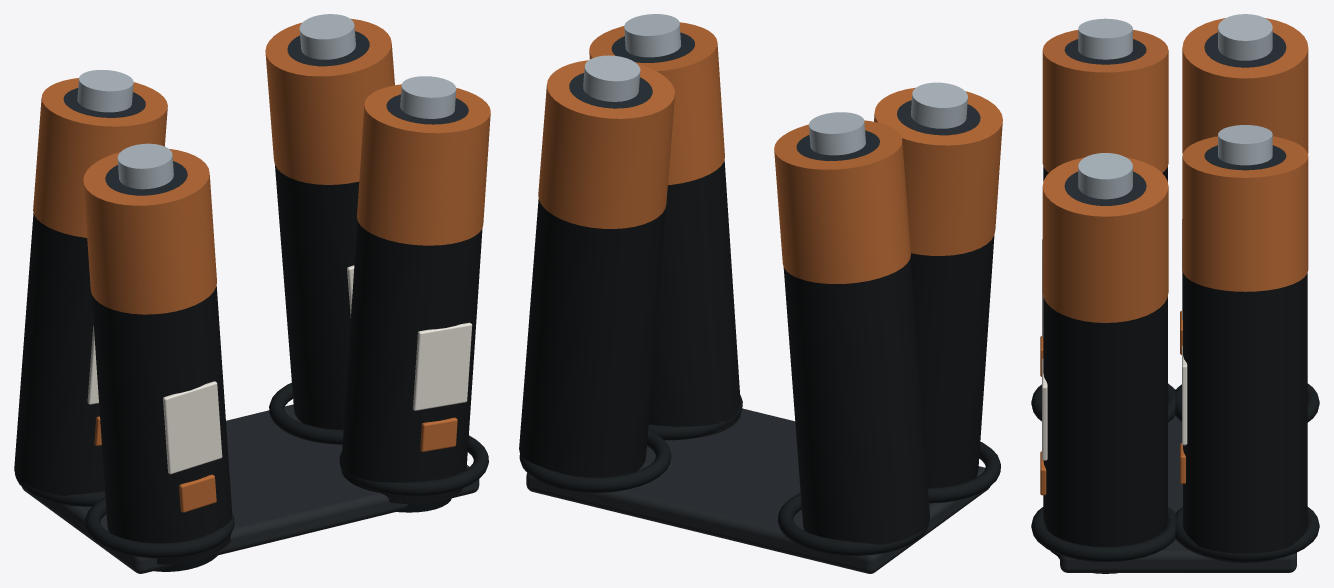
Rendered from aa-battery-pack.glb.
3 views of the same model, side by side, from view 1: azimuth 30°, elevation 25°; view 2: azimuth 150°, elevation 25°; view 3: azimuth 270°, elevation 25° (orthographic). The views are drawn at different scales.
Parts seen in each view (by area): view 1: Black alkaline cell body (×4), Copper top casing (×4), Four-cell presentation tray, Positive terminal button (×4), Battery brand label (×2), Four-pack of premium copper-top AA alkaline batteries, Positive terminal insulator (×4), AA size marker (×2); view 2: Black alkaline cell body (×4), Copper top casing (×4), Four-cell presentation tray, Positive terminal button (×4), Four-pack of premium copper-top AA alkaline batteries, Positive terminal insulator (×4); view 3: Black alkaline cell body (×2), Copper top casing (×4), Positive terminal button (×4), Four-pack of premium copper-top AA alkaline batteries, Four-cell presentation tray, Positive terminal insulator (×4), Battery brand label (×2).
Part boxes in pixels (x1,y1,x2,y2): Black alkaline cell body (×4): [14, 165, 482, 564]; Copper top casing (×4): [33, 18, 490, 314]; Four-cell presentation tray: [22, 404, 479, 573]; Positive terminal button (×4): [77, 14, 456, 189]; Battery brand label (×2): [163, 322, 472, 474]; Four-pack of premium copper-top AA alkaline batteries: [15, 382, 488, 558]; Positive terminal insulator (×4): [63, 31, 468, 195]; AA size marker (×2): [179, 417, 457, 512]; Black alkaline cell body (×4): [519, 160, 994, 544]; Copper top casing (×4): [538, 22, 1002, 283]; Four-cell presentation tray: [526, 408, 989, 573]; Positive terminal button (×4): [583, 14, 967, 155]; Four-pack of premium copper-top AA alkaline batteries: [519, 394, 1000, 555]; Positive terminal insulator (×4): [569, 32, 980, 160]; Black alkaline cell body (×2): [1043, 273, 1307, 557]; Copper top casing (×4): [1042, 18, 1308, 322]; Positive terminal button (×4): [1078, 14, 1272, 199]; Four-pack of premium copper-top AA alkaline batteries: [1031, 383, 1319, 561]; Four-cell presentation tray: [1060, 389, 1296, 572]; Positive terminal insulator (×4): [1064, 32, 1286, 205]; Battery brand label (×2): [1042, 345, 1187, 460].
Size of the model in its own units: 1.47 by 1.52 by 0.95.
